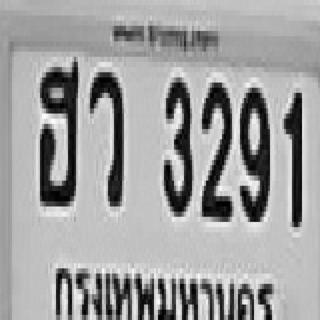A37: (88, 67, 122, 201)
A44: (37, 57, 77, 201)
N01: (282, 88, 300, 222)
N02: (200, 77, 230, 217)
N03: (162, 72, 190, 212)
N09: (238, 83, 268, 217)
P04: (52, 255, 277, 320)
